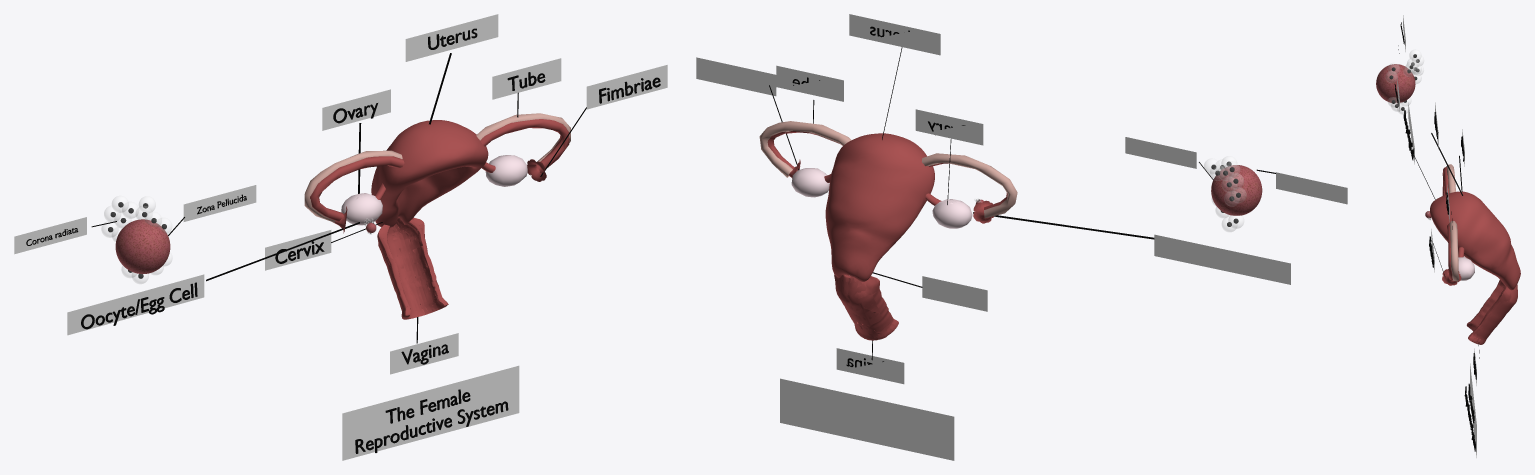
Rendered from ooctyte.gltf.
3 renders of one model, left to right at view 1: azimuth 30°, elevation 25°; view 2: azimuth 150°, elevation 25°; view 3: azimuth 270°, elevation 25°, orthographic. The views are drawn at different scales.
Parts seen in each view (by area): view 1: Plane.044, WOMB.002, Plane.038, Object_2.009, OVARIES.002, Plane.031, Object_7.002, Text.023, Plane.027, Object_6.003, Plane.029, Plane.037 (+11 smaller); view 2: WOMB.002, Plane.044, Plane.038, Plane.031, Object_2.009, OVARIES.002, Plane.027, Plane.037, Plane.029, Plane.035, Plane.033, TUBE_L.004 (+6 smaller); view 3: WOMB.002, Object_2.009, Object_4.002, TUBE_R.004, Object_6.003, OVARIES.002, Text.023, Object_5.002, Plane.044, TUBE_L.004, TUBE_R.005, Text.019.
Part boxes in pixels (bbox=[...]): Plane.044: bbox=[342, 365, 519, 460]; WOMB.002: bbox=[371, 120, 488, 227]; Plane.038: bbox=[67, 274, 204, 335]; Object_2.009: bbox=[115, 219, 170, 274]; OVARIES.002: bbox=[341, 155, 527, 225]; Plane.031: bbox=[405, 14, 498, 61]; Object_7.002: bbox=[388, 218, 448, 319]; Text.023: bbox=[355, 389, 508, 453]; Plane.027: bbox=[586, 65, 667, 109]; Object_6.003: bbox=[378, 217, 448, 319]; Plane.029: bbox=[492, 58, 561, 99]; Plane.037: bbox=[322, 89, 390, 130]; WOMB.002: bbox=[825, 133, 934, 281]; Plane.044: bbox=[780, 378, 954, 460]; Plane.038: bbox=[1154, 234, 1290, 284]; Plane.031: bbox=[849, 14, 940, 55]; Object_2.009: bbox=[1211, 165, 1262, 215]; OVARIES.002: bbox=[791, 168, 972, 228]; Plane.027: bbox=[696, 57, 776, 96]; Plane.037: bbox=[915, 109, 983, 145]; Plane.029: bbox=[776, 65, 843, 101]; Plane.035: bbox=[836, 348, 904, 384]; Plane.033: bbox=[922, 276, 987, 311]; TUBE_L.004: bbox=[922, 153, 1017, 218]; WOMB.002: bbox=[1430, 191, 1520, 290]; Object_2.009: bbox=[1376, 64, 1415, 103]; Object_4.002: bbox=[1466, 280, 1517, 344]; TUBE_R.004: bbox=[1449, 221, 1459, 281]; Object_6.003: bbox=[1468, 287, 1516, 344]; OVARIES.002: bbox=[1458, 257, 1474, 280]; Text.023: bbox=[1464, 383, 1475, 451]; Object_5.002: bbox=[1467, 284, 1517, 344]; Plane.044: bbox=[1470, 363, 1476, 457]; TUBE_L.004: bbox=[1446, 164, 1455, 193]; TUBE_R.005: bbox=[1447, 223, 1452, 280]; Text.019: bbox=[1403, 110, 1413, 160].
Bounding box in the file's own units: 9.4 × 5.72 × 2.43.
14 materials, 1 textured.
